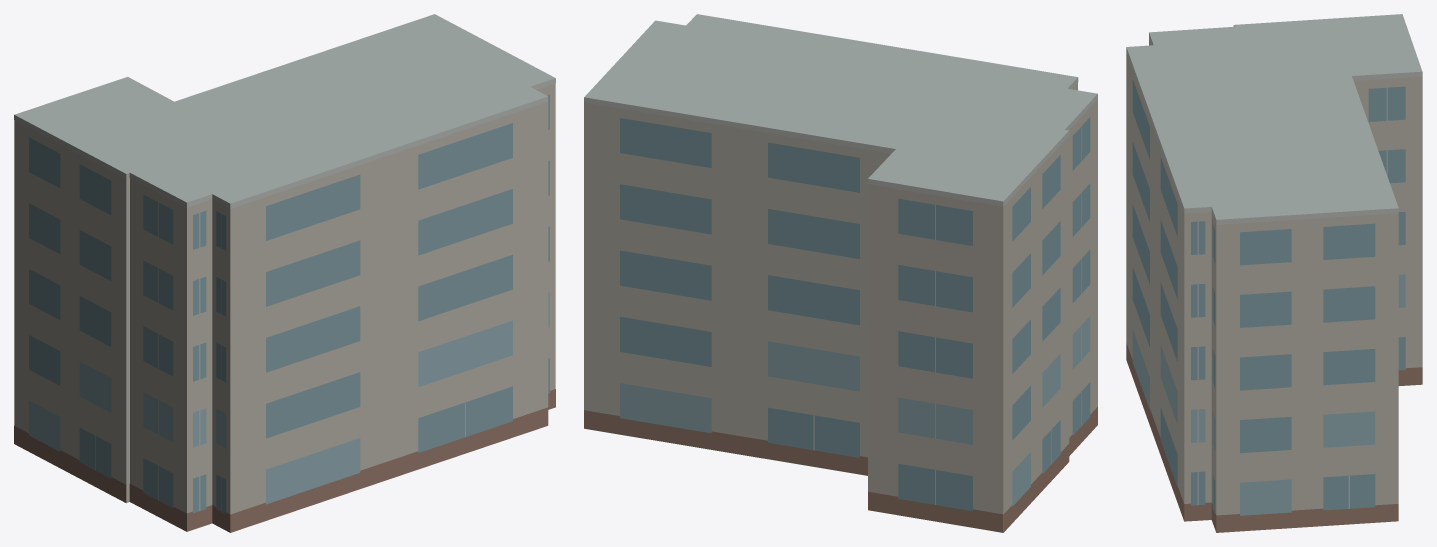
Rendered from survey-upis-32583780.glb.
3 views of the same model, side by side, from view 1: azimuth 30°, elevation 25°; view 2: azimuth 150°, elevation 25°; view 3: azimuth 270°, elevation 25° (orthographic). The views are drawn at different scales.
Visible parts, largest first — view 1: survey-upis-32583780.tmp; view 2: survey-upis-32583780.tmp; view 3: survey-upis-32583780.tmp.
Boxes of the visible parts, bbox=[...] form: survey-upis-32583780.tmp: bbox=[14, 14, 555, 532]; survey-upis-32583780.tmp: bbox=[584, 14, 1097, 532]; survey-upis-32583780.tmp: bbox=[1126, 14, 1422, 532].
Size of the model in its own units: 21.75 by 15.41 by 13.22.
